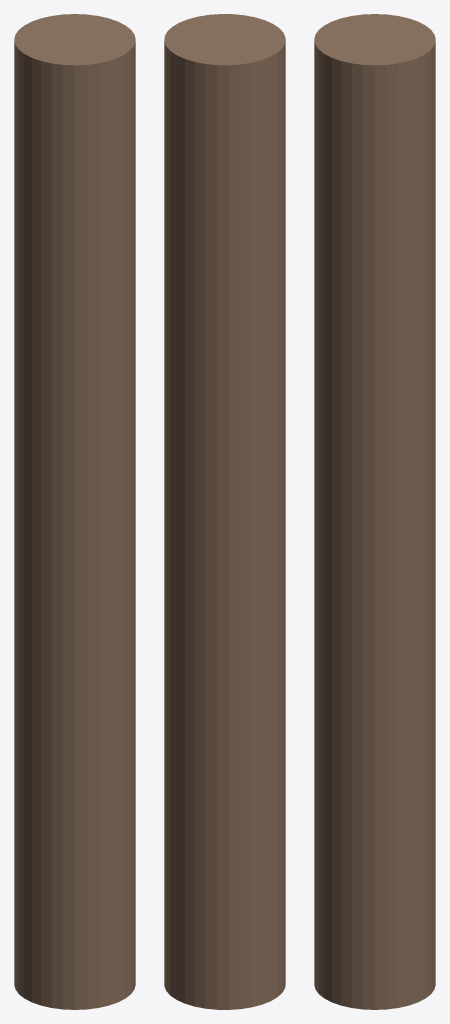
File: maple_growing.glb
3 renders of one model, left to right at view 1: azimuth 90°, elevation 25°; view 2: azimuth 150°, elevation 25°; view 3: azimuth 270°, elevation 25°, orthographic.
Visible parts, largest first — view 1: MapleGrowing_Trunk.002; view 2: MapleGrowing_Trunk.002; view 3: MapleGrowing_Trunk.002.
Part boxes in pixels (x1,y1,x2,y2): MapleGrowing_Trunk.002: (14, 14, 135, 1009); MapleGrowing_Trunk.002: (164, 14, 285, 1009); MapleGrowing_Trunk.002: (314, 14, 435, 1009).
Bounding box in the file's own units: 0.14 × 1.2 × 0.14.
